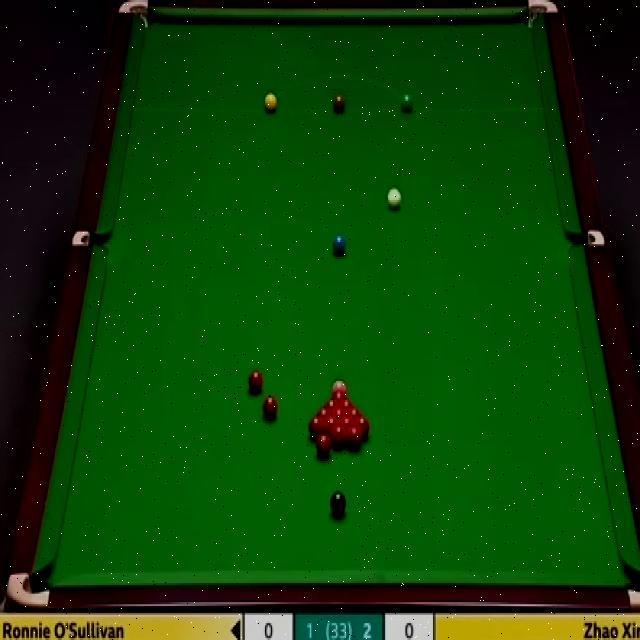black-ball: (330, 491, 347, 517)
blue-ball: (332, 233, 348, 257)
brown-ball: (333, 94, 346, 114)
green-ball: (401, 92, 413, 112)
pink-ball: (332, 378, 348, 392)
red-ball: (261, 396, 278, 423), (247, 370, 263, 394), (330, 425, 346, 449), (316, 433, 331, 458), (347, 426, 362, 450), (355, 416, 370, 438), (309, 418, 325, 438), (315, 407, 334, 418), (326, 418, 338, 434), (339, 416, 354, 427), (322, 399, 340, 408), (339, 400, 355, 410), (346, 408, 363, 417), (331, 392, 348, 401), (333, 408, 347, 418)
white-ball: (386, 187, 403, 212)
yellow-ball: (264, 91, 277, 114)
